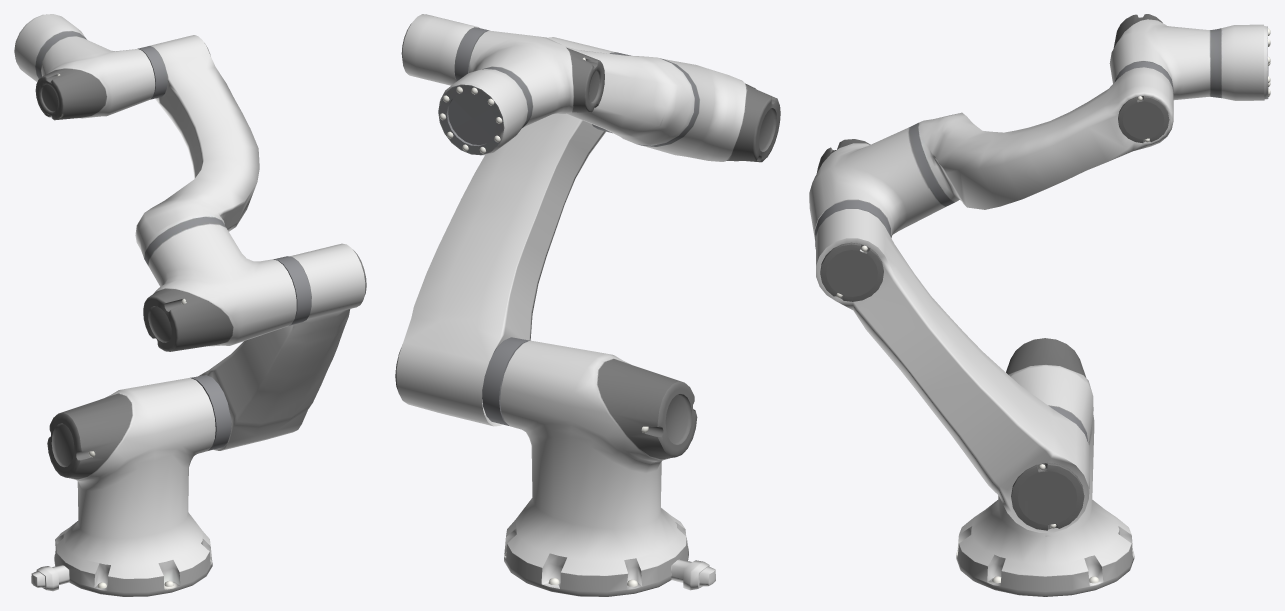
File: cobot-c6.glb
3 renders of one model, left to right at view 1: azimuth 30°, elevation 25°; view 2: azimuth 150°, elevation 25°; view 3: azimuth 270°, elevation 25°, orthographic. The views are drawn at different scales.
Parts seen in each view (by area): view 1: cobot; view 2: cobot; view 3: cobot.
Part boxes in pixels (x1=…): cobot: x1=14, y1=14, x2=366, y2=596; cobot: x1=395, y1=14, x2=780, y2=596; cobot: x1=809, y1=14, x2=1270, y2=596.
Size of the model in its own units: 0.7238 by 1.29 by 1.
1 material, 1 textured.
